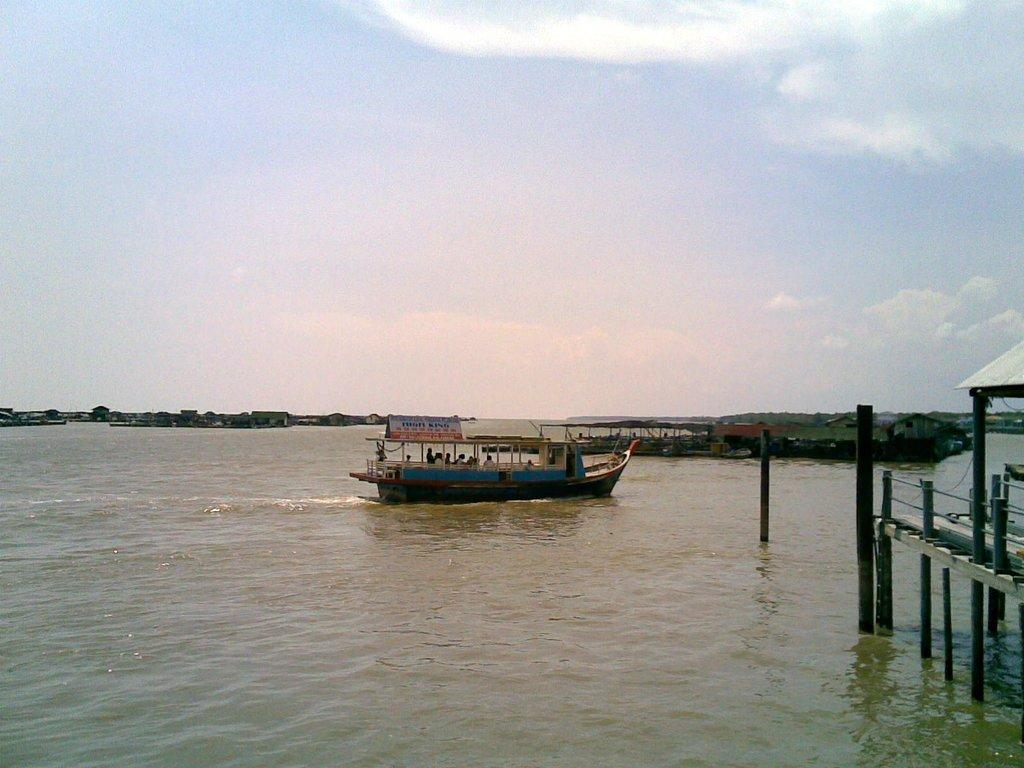PassengerShip: (352, 408, 644, 504)
